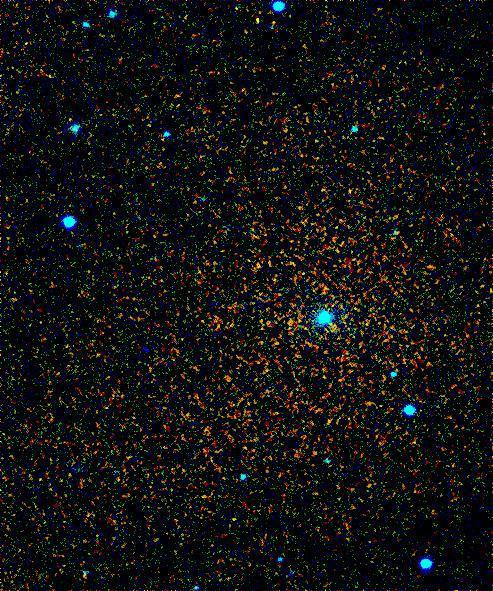star: (316, 314, 346, 344)
